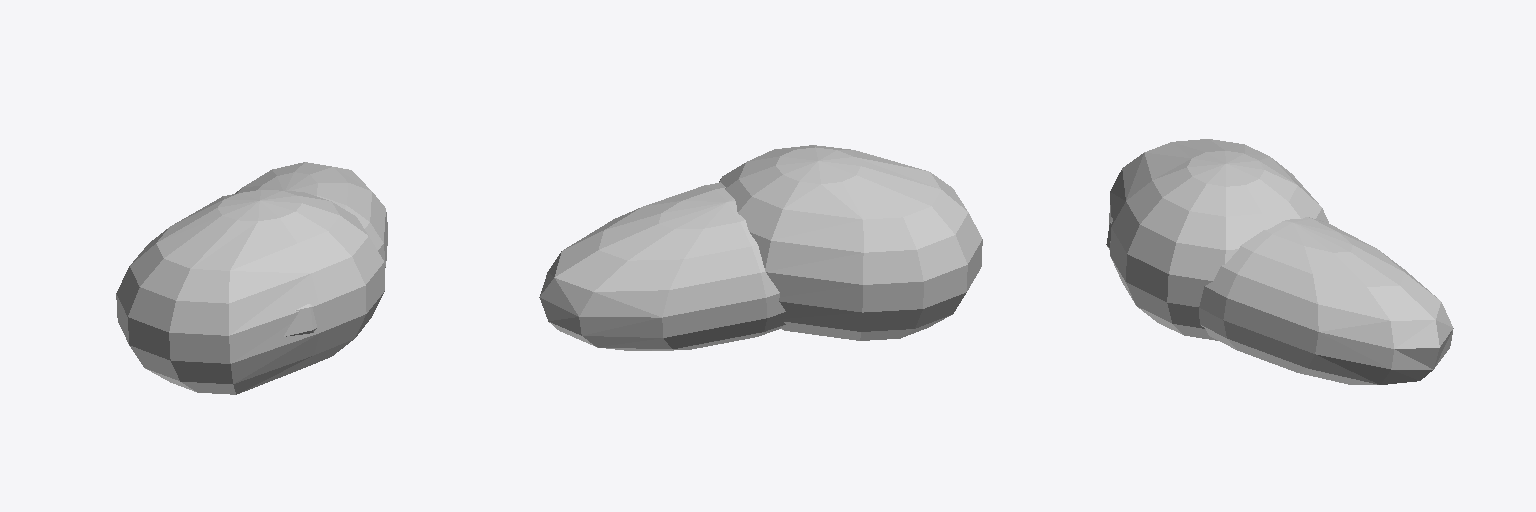
File: cooked_breast.obj
3 views of the same model, side by side, from view 1: azimuth 30°, elevation 25°; view 2: azimuth 150°, elevation 25°; view 3: azimuth 270°, elevation 25° (orthographic).
Parts seen in each view (by area): view 1: group[number redacted]; view 2: group[number redacted]; view 3: group[number redacted].
Part boxes in pixels (x1,y1,x2,y2): group[number redacted]: (116,162,387,394); group[number redacted]: (539,145,982,350); group[number redacted]: (1106,139,1453,384).
Size of the model in its own units: 0.0584 by 0.0275 by 0.0535.